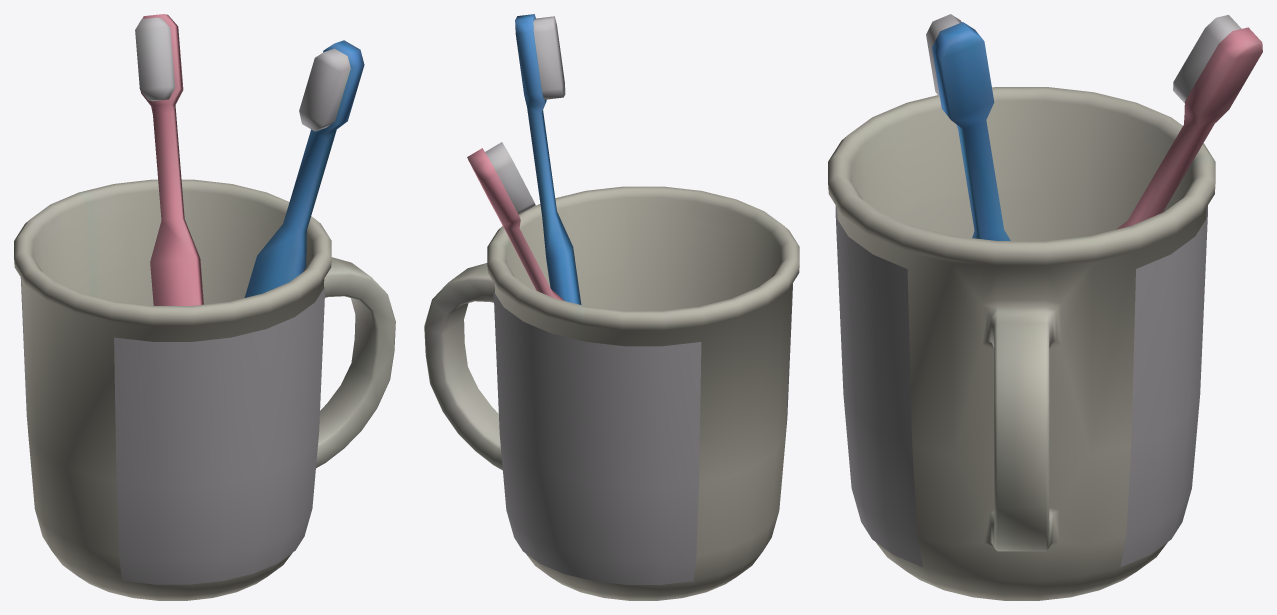
3 renders of one model, left to right at view 1: azimuth 30°, elevation 25°; view 2: azimuth 150°, elevation 25°; view 3: azimuth 270°, elevation 25°, orthographic. The views are drawn at different scales.
Size of the model in its own units: 3.15 by 4.28 by 2.78.
Materials: 2 (2 with a texture image).
